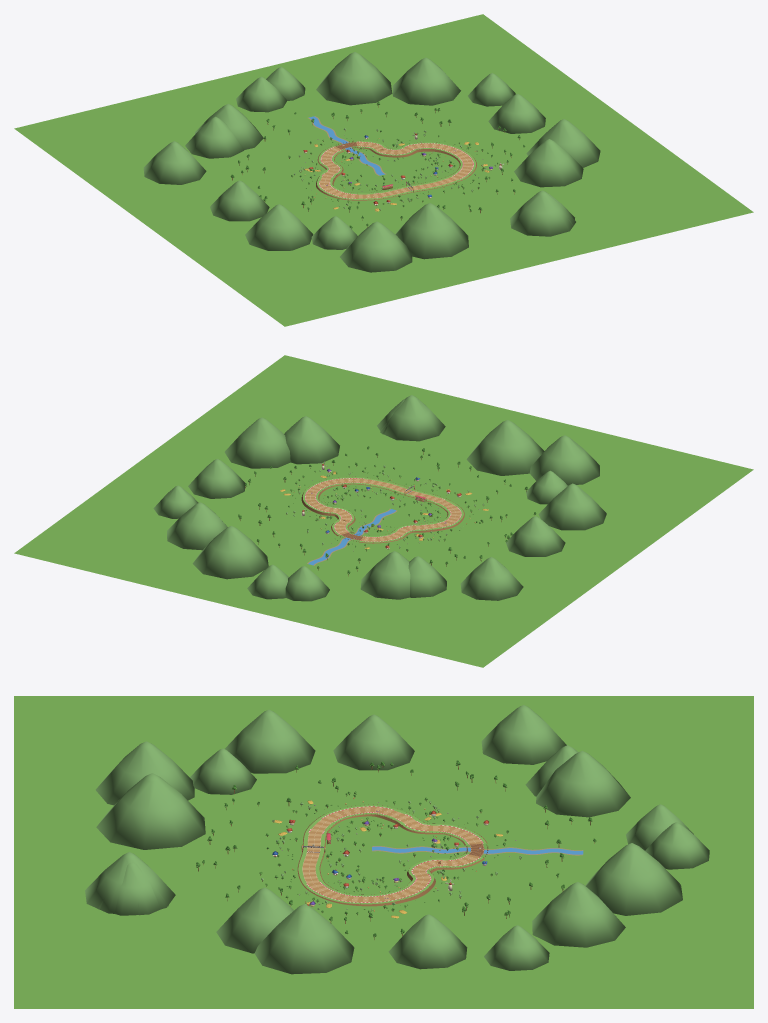
File: carreras_valle.glb
3 views of the same model, one above another, from view 1: azimuth 30°, elevation 25°; view 2: azimuth 150°, elevation 25°; view 3: azimuth 270°, elevation 25° (orthographic). The views are drawn at different scales.
Visible parts, largest first — view 1: valle Tela | suelo valle 99 99, valle Laca | montana #7FAF6A 99 99; view 2: valle Tela | suelo valle 99 99, valle Laca | montana #7FAF6A 99 99; view 3: valle Tela | suelo valle 99 99, valle Laca | montana #7FAF6A 99 99, valle Tela | rio -1 0, valle Tela | copa #4E8A3A 99 99, valle Tela | orilla valle 0 -1, valle Tela | camino claro valle 0 -1, valle Tela | camino valle 0 -1, valle Tela | camino claro valle 0 0, valle Tela | camino valle 0 0, valle Tela | orilla valle 0 0, valle Tela | orilla valle -1 -1.
Boxes of the visible parts, box(x1,y1,x2,y2) form: valle Tela | suelo valle 99 99: box(14, 14, 753, 326); valle Laca | montana #7FAF6A 99 99: box(143, 52, 600, 272); valle Tela | suelo valle 99 99: box(14, 355, 753, 667); valle Laca | montana #7FAF6A 99 99: box(153, 395, 606, 601); valle Tela | suelo valle 99 99: box(14, 696, 753, 1008); valle Laca | montana #7FAF6A 99 99: box(85, 705, 709, 974); valle Tela | rio -1 0: box(384, 847, 570, 854); valle Tela | copa #4E8A3A 99 99: box(196, 760, 596, 936); valle Tela | orilla valle 0 -1: box(298, 852, 384, 904); valle Tela | camino claro valle 0 -1: box(302, 852, 385, 902); valle Tela | camino valle 0 -1: box(302, 854, 379, 902); valle Tela | camino claro valle 0 0: box(387, 854, 479, 899); valle Tela | camino valle 0 0: box(383, 856, 477, 900); valle Tela | orilla valle 0 0: box(384, 854, 483, 902); valle Tela | orilla valle -1 -1: box(303, 805, 384, 852).
Size of the model in its own units: 840 by 67.76 by 840.
